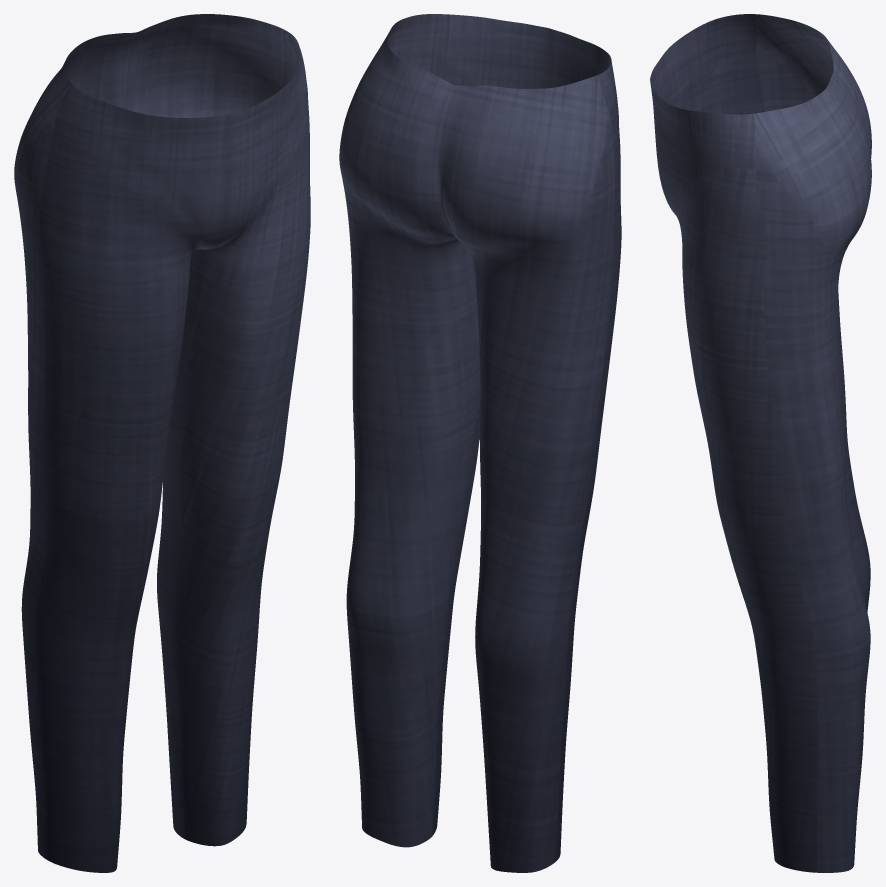
Rendered from Zubon03.fbx.
3 renders of one model, left to right at view 1: azimuth 30°, elevation 25°; view 2: azimuth 150°, elevation 25°; view 3: azimuth 270°, elevation 25°, orthographic. The views are drawn at different scales.
Parts seen in each view (by area): view 1: Zubon03; view 2: Zubon03; view 3: Zubon03.
Part boxes in pixels (box(x1,y1,x2,y2)): Zubon03: box(14, 14, 310, 872); Zubon03: box(339, 14, 621, 872); Zubon03: box(650, 14, 871, 872).
Size of the model in its own units: 31.2 by 91.29 by 23.71.
